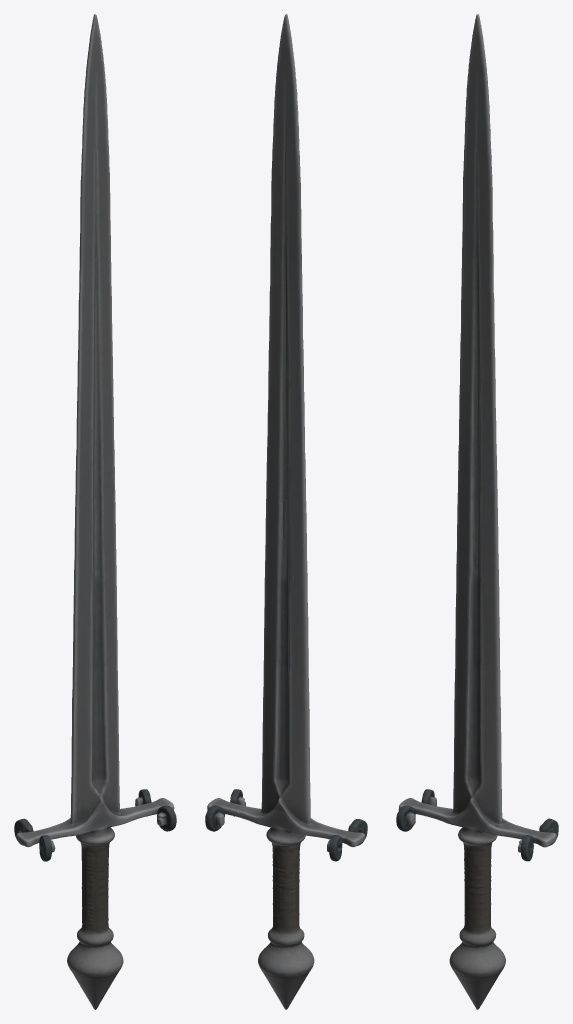
File: estoc.glb
3 views of the same model, side by side, from view 1: azimuth 30°, elevation 25°; view 2: azimuth 150°, elevation 25°; view 3: azimuth 330°, elevation 25° (orthographic).
Parts seen in each view (by area): view 1: world; view 2: world; view 3: world.
Part boxes in pixels (x1,y1,x2,y2): world: (14, 14, 176, 1009); world: (205, 14, 367, 1009); world: (396, 14, 558, 1009).
Size of the model in its own units: 0.158 by 1 by 0.0607.
Materials: 1 (1 with a texture image).
